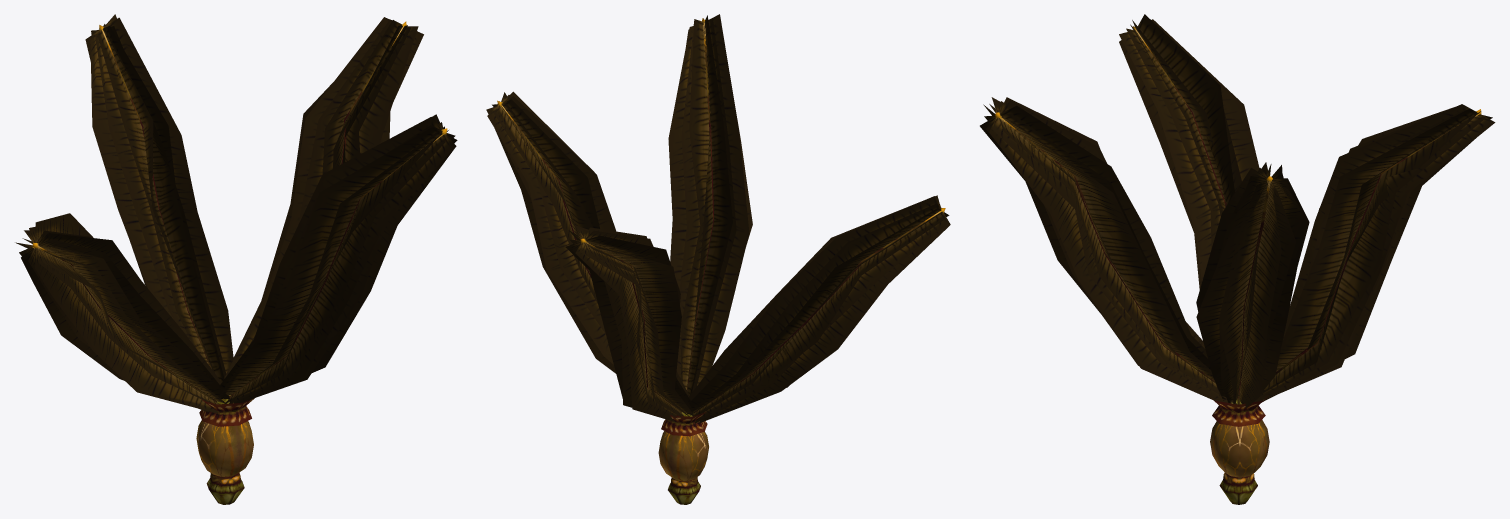
The model's file is Bug_coms_01_c.fbx.
3 views of the same model, side by side, from view 1: azimuth 30°, elevation 25°; view 2: azimuth 150°, elevation 25°; view 3: azimuth 270°, elevation 25° (orthographic). The views are drawn at different scales.
Visible parts, largest first — view 1: Bug_comms_01_c; view 2: Bug_comms_01_c; view 3: Bug_comms_01_c.
Boxes of the visible parts, x1,y1,x2,y2 form: Bug_comms_01_c: (15, 14, 457, 504); Bug_comms_01_c: (486, 14, 950, 504); Bug_comms_01_c: (980, 14, 1495, 504).
Bounding box in the file's own units: 12.59 × 11.62 × 12.14.
